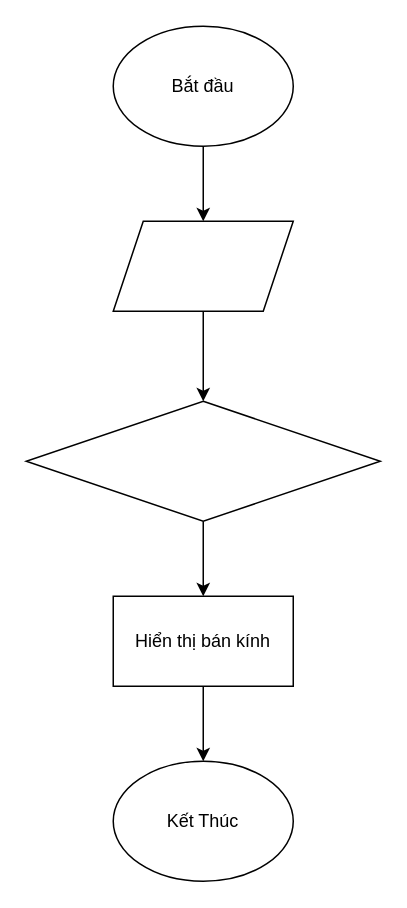
Image size: 407x908. Some labels were removed from this diagram. The shapes that lost their labels are listed below. From the top down, each one's centre as x and y in pixels, then its label:
point (202, 265): Diện tích đường tròn
point (202, 460): PI = 3.14 Bán kính: Diện Tích đường tròn / PI
